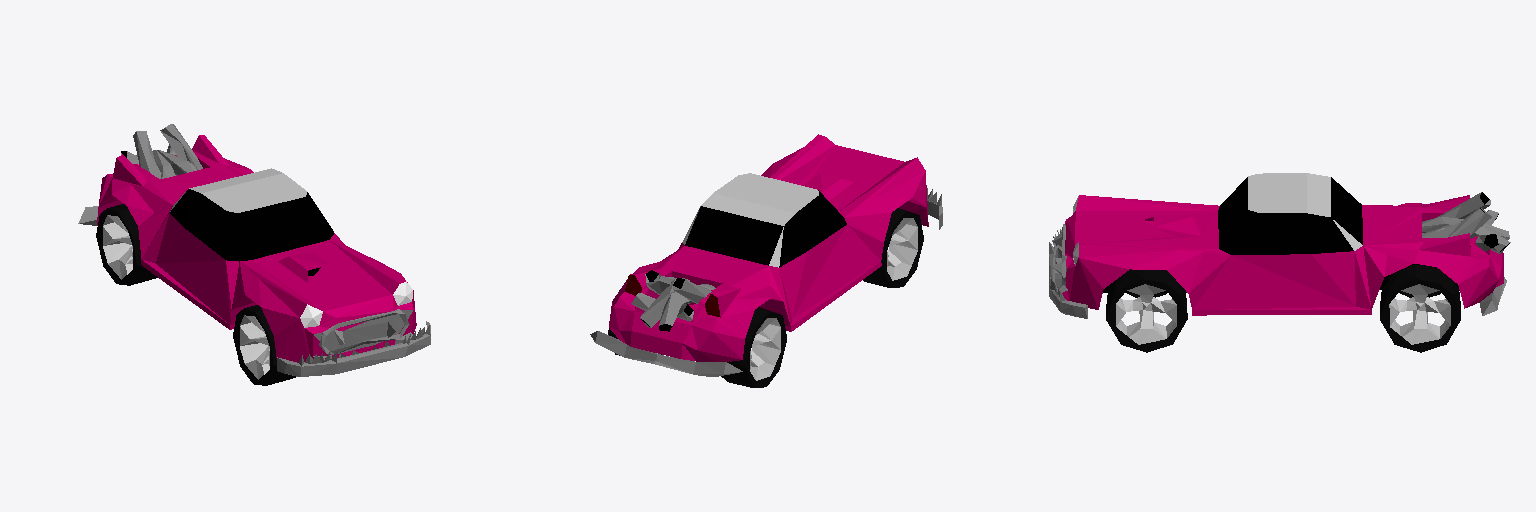
File: monster_pink_all_model.obj
3 views of the same model, side by side, from view 1: azimuth 30°, elevation 25°; view 2: azimuth 150°, elevation 25°; view 3: azimuth 270°, elevation 25° (orthographic).
Visible parts, largest first — view 1: Plane.001, Circle.007, Circle.006; view 2: Plane.001, Circle.007, Circle.006; view 3: Plane.001, Circle.005, Circle.008.
Part boxes in pixels (bbox=[...]): Plane.001: bbox=[78, 124, 430, 376]; Circle.007: bbox=[96, 204, 157, 285]; Circle.006: bbox=[233, 305, 295, 385]; Plane.001: bbox=[590, 134, 942, 376]; Circle.007: bbox=[721, 307, 786, 387]; Circle.006: bbox=[863, 208, 923, 287]; Plane.001: bbox=[1049, 173, 1510, 318]; Circle.005: bbox=[1380, 265, 1460, 352]; Circle.008: bbox=[1106, 269, 1187, 352].
Size of the model in its own units: 5.49 by 4.29 by 14.3.